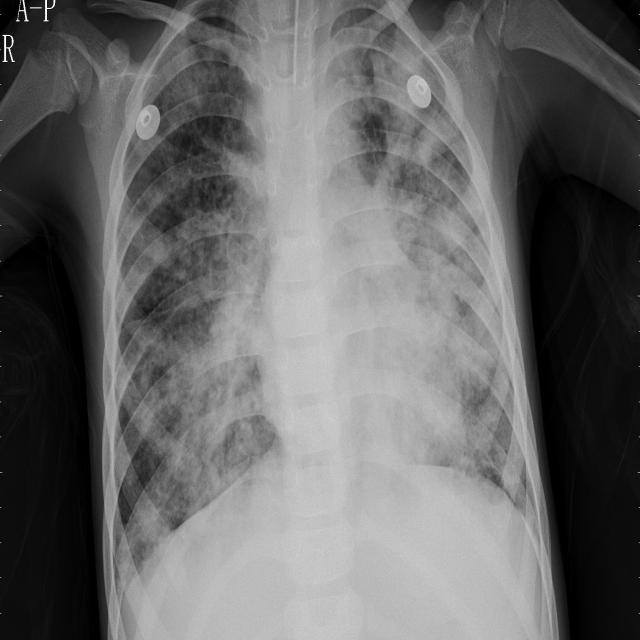high-pneumonia: (158, 157, 273, 529), (405, 186, 509, 435), (367, 29, 449, 166)
